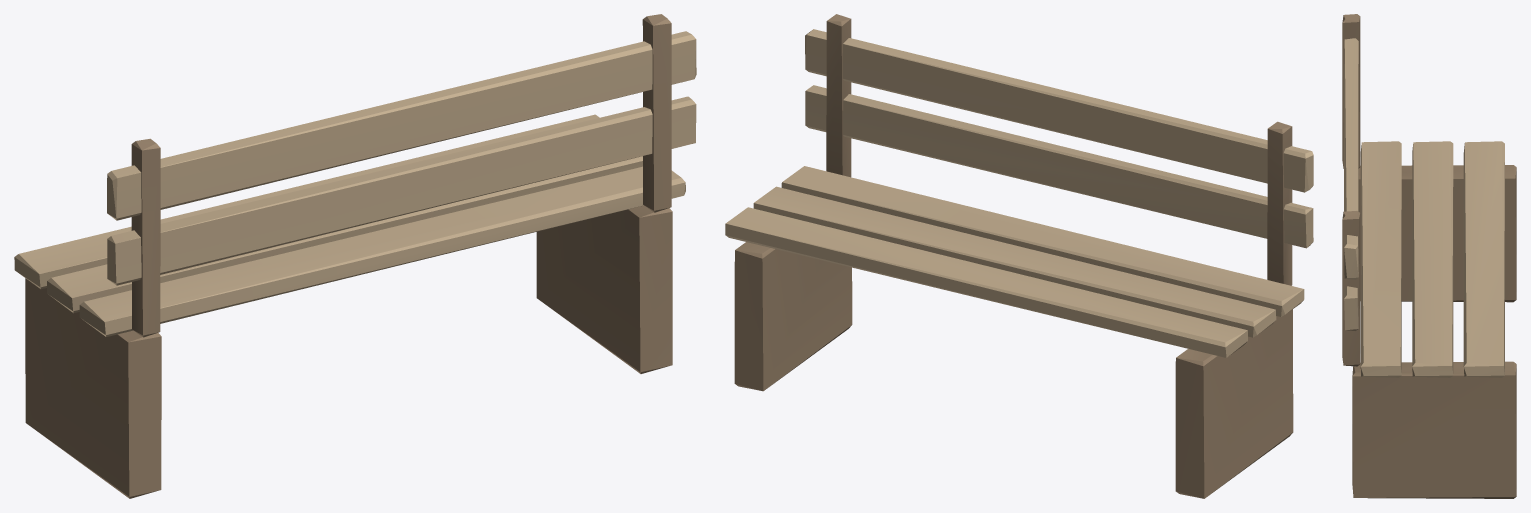
Rendered from furn_garden_bench__oak_low.glb.
3 views of the same model, side by side, from view 1: azimuth 30°, elevation 25°; view 2: azimuth 150°, elevation 25°; view 3: azimuth 270°, elevation 25° (orthographic). The views are drawn at different scales.
Size of the model in its own units: 1.6 by 0.93 by 0.5236.
